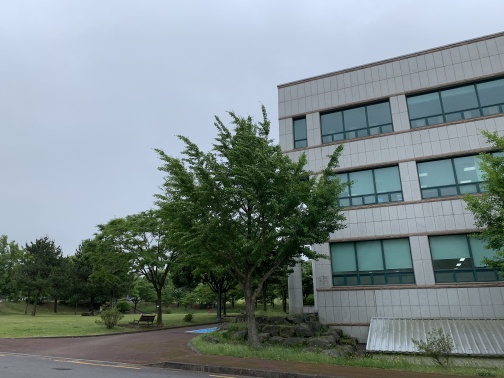Second Library: (262, 39, 502, 358)
